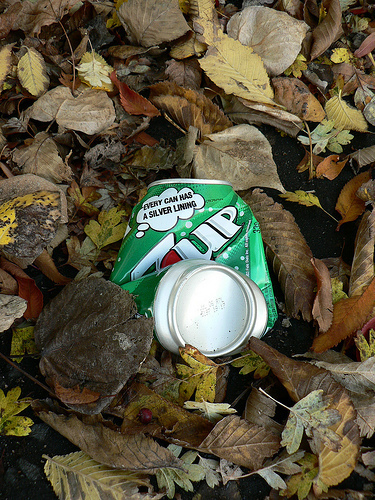litter: (109, 176, 279, 358)
